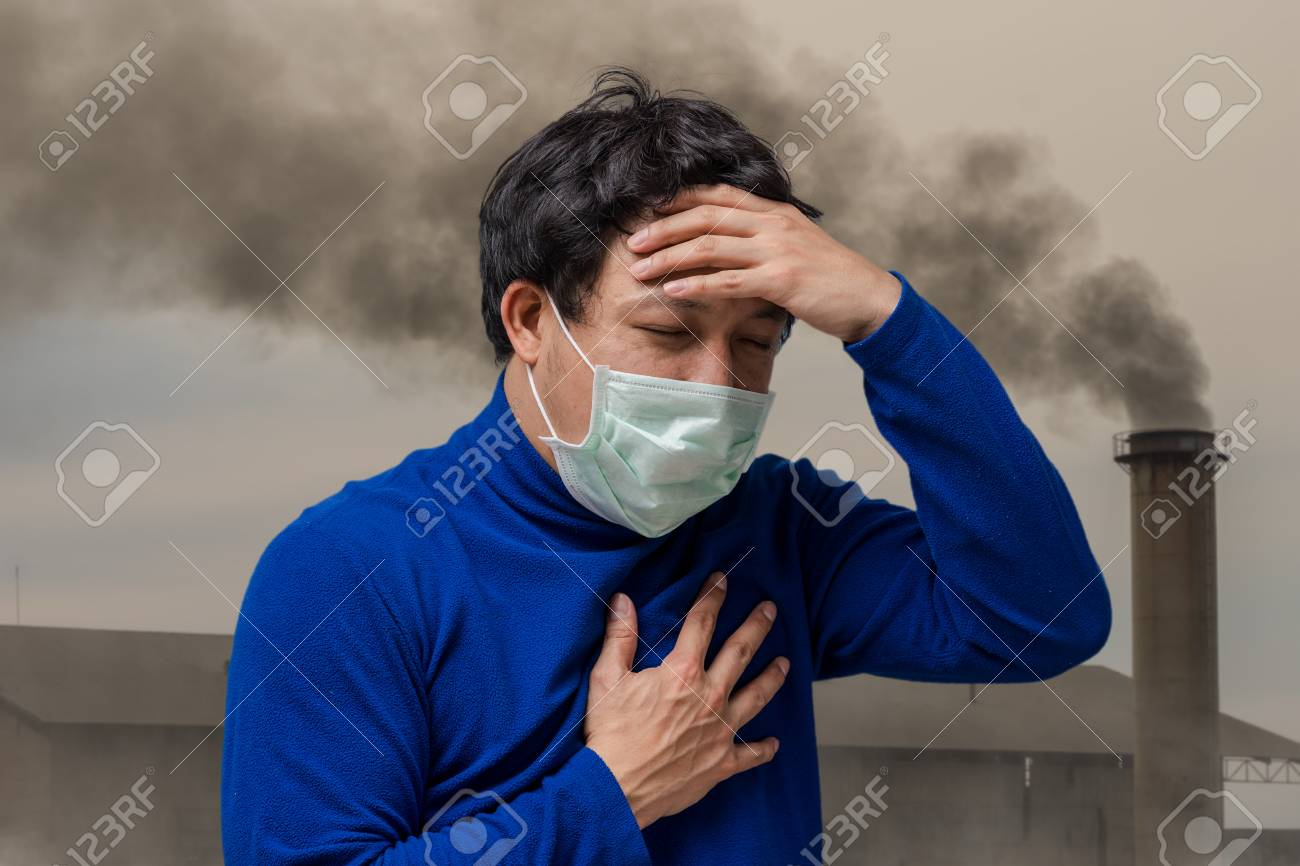with_mask: (508, 229, 811, 532)
